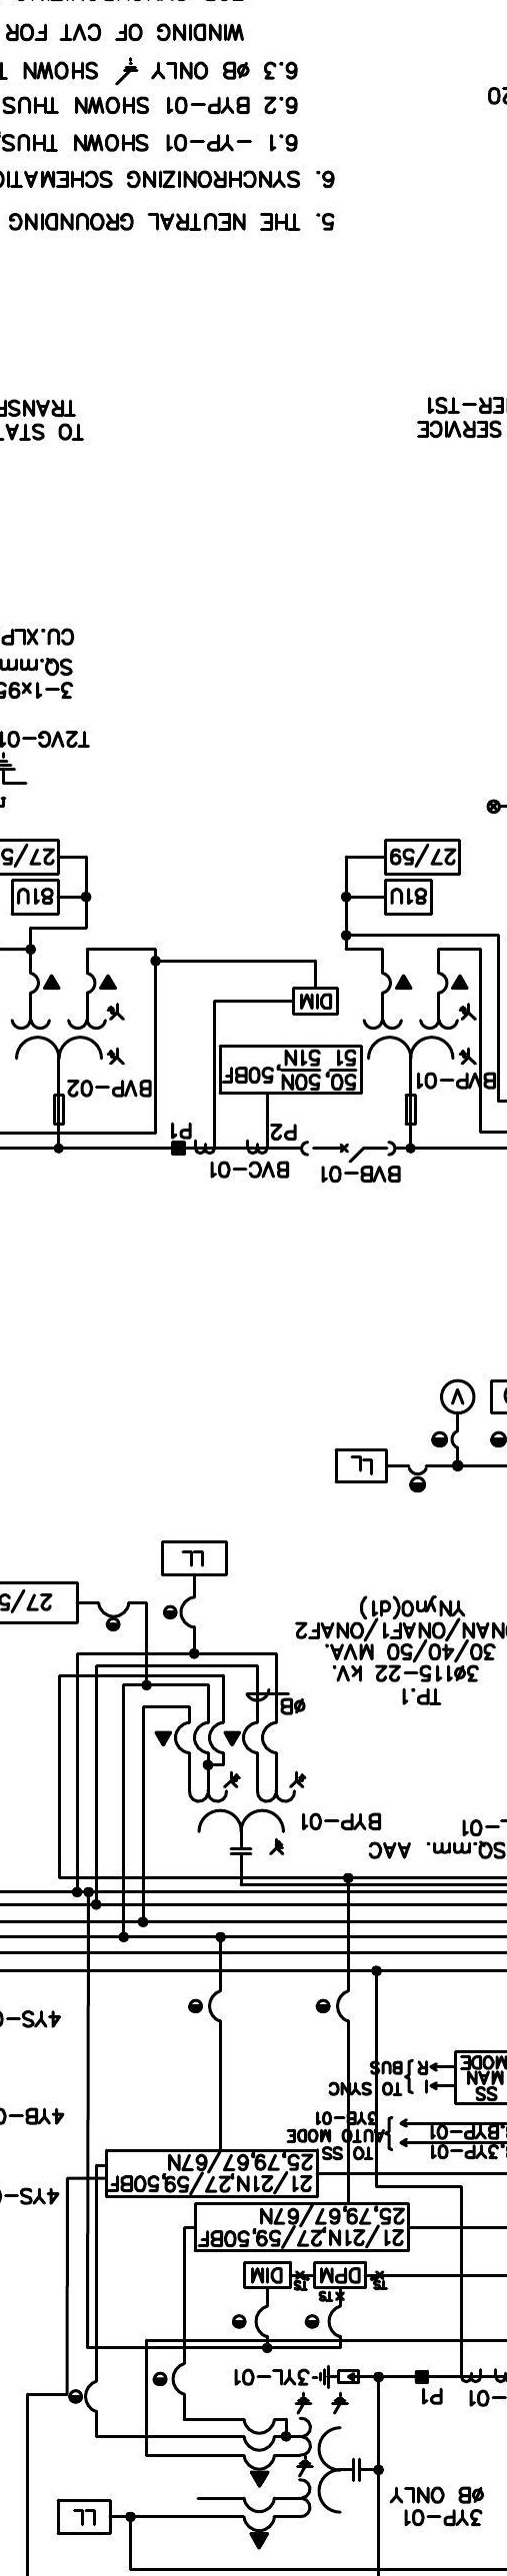115_cvt_1p: (242, 2390, 360, 2551)
115_cvt_3p: (188, 1769, 308, 1856)
115_la: (311, 2364, 360, 2390)
22_breaker: (300, 1140, 397, 1163)
22_vt_3p: (10, 971, 127, 1127), (362, 971, 477, 1127)
DIM: (242, 2261, 291, 2290), (291, 987, 339, 1015)
DPM: (313, 2261, 367, 2290)
LL: (161, 1539, 229, 1577), (56, 2499, 112, 2535), (334, 1447, 388, 1483)
v_m: (440, 1378, 476, 1414)
